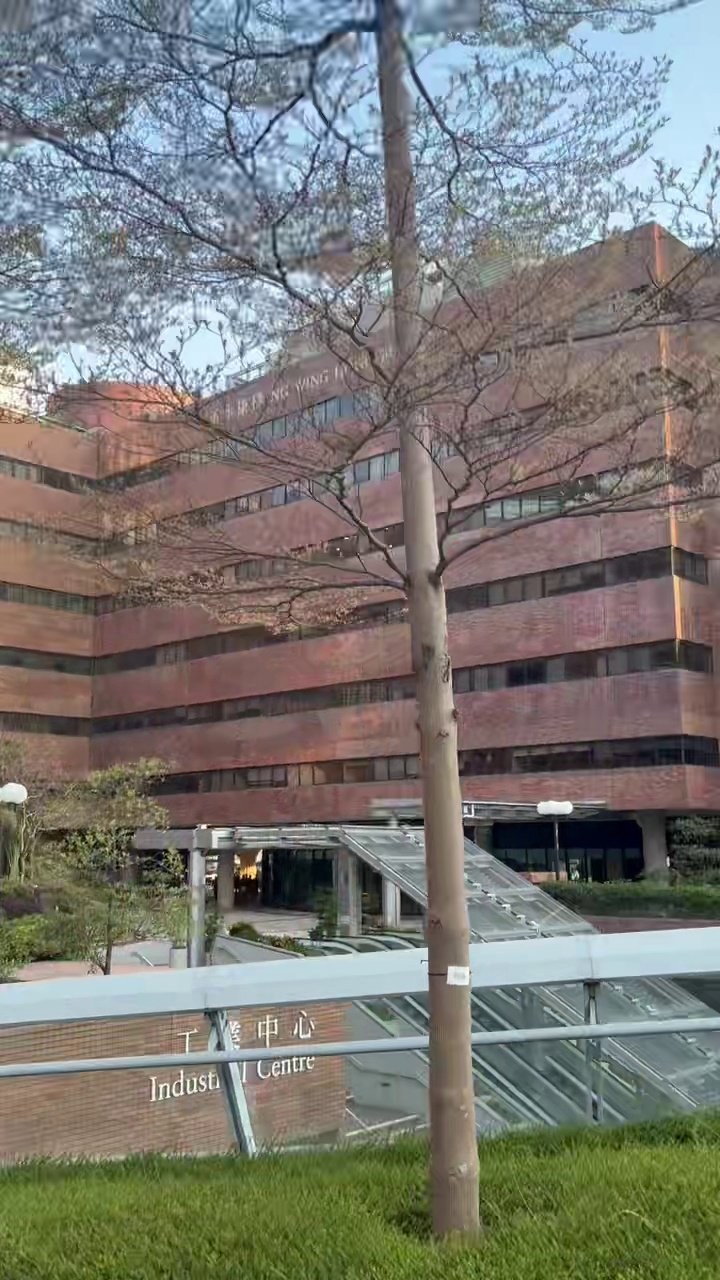Terminalia mantaly: (0, 0, 719, 1233)
